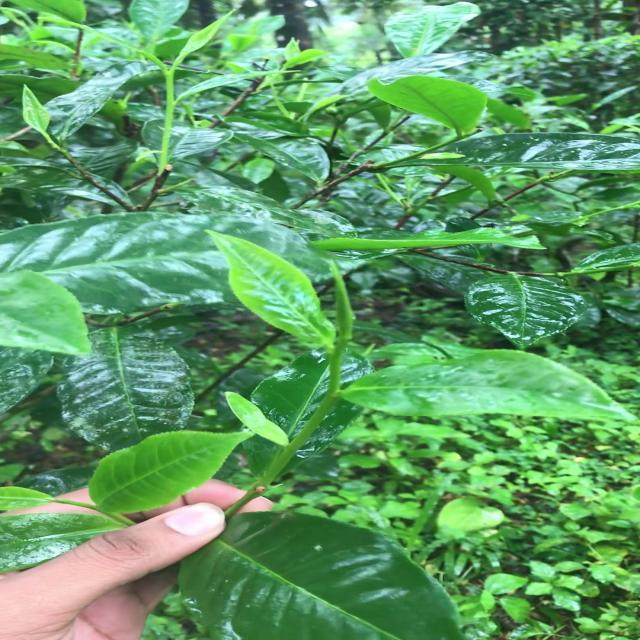Stem: (320, 394, 338, 410), (167, 71, 173, 78)
